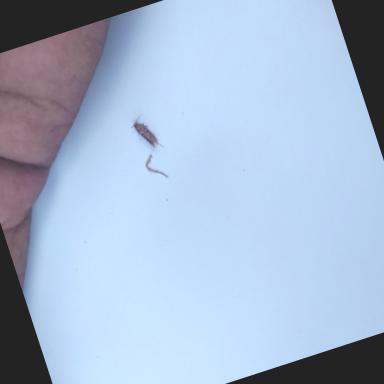pbw: (127, 110, 165, 156)
